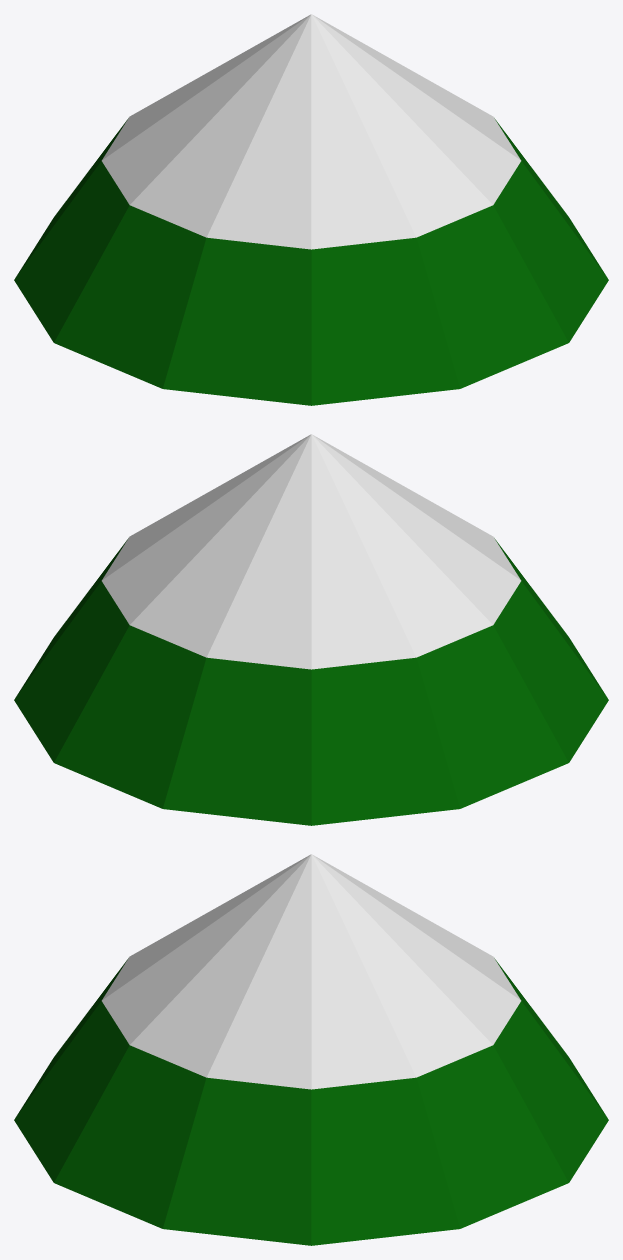
The model's file is Prop_Industrial_Rocket_Head_06.FBX.
The picture shows the model from 3 angles, top to bottom: view 1: azimuth 30°, elevation 25°; view 2: azimuth 150°, elevation 25°; view 3: azimuth 270°, elevation 25°; orthographic projection.
Parts seen in each view (by area): view 1: Prop_Industrial_Rocket_Head_06; view 2: Prop_Industrial_Rocket_Head_06; view 3: Prop_Industrial_Rocket_Head_06.
Boxes of the visible parts, box(x1,y1,x2,y2) form: Prop_Industrial_Rocket_Head_06: box(14, 14, 608, 405); Prop_Industrial_Rocket_Head_06: box(14, 434, 608, 825); Prop_Industrial_Rocket_Head_06: box(14, 854, 608, 1245).
Size of the model in its own units: 1538 by 759 by 1538.
